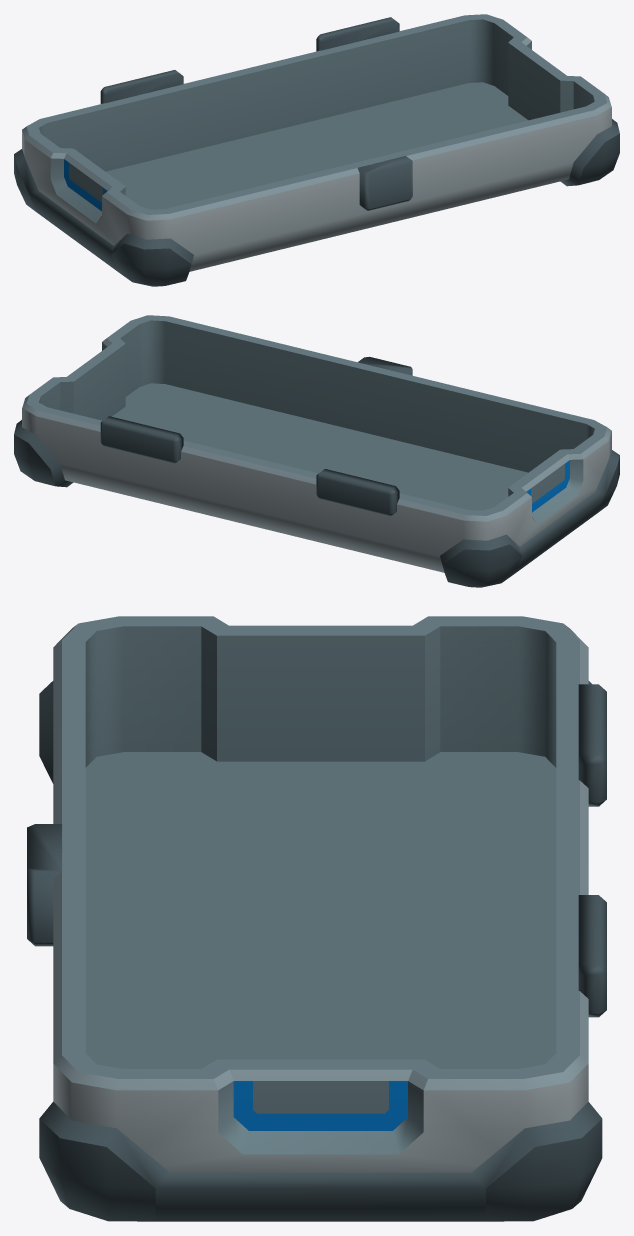
The model's file is Crate_005.fbx.
3 renders of one model, top to bottom at view 1: azimuth 30°, elevation 25°; view 2: azimuth 150°, elevation 25°; view 3: azimuth 270°, elevation 25°, orthographic. The views are drawn at different scales.
Parts seen in each view (by area): view 1: Crate_005; view 2: Crate_005; view 3: Crate_005.
Boxes of the visible parts, x1,y1,x2,y2 form: Crate_005: (14, 14, 619, 286); Crate_005: (14, 315, 619, 587); Crate_005: (27, 616, 606, 1221).
Size of the model in its own units: 133 by 67.82 by 23.73.
